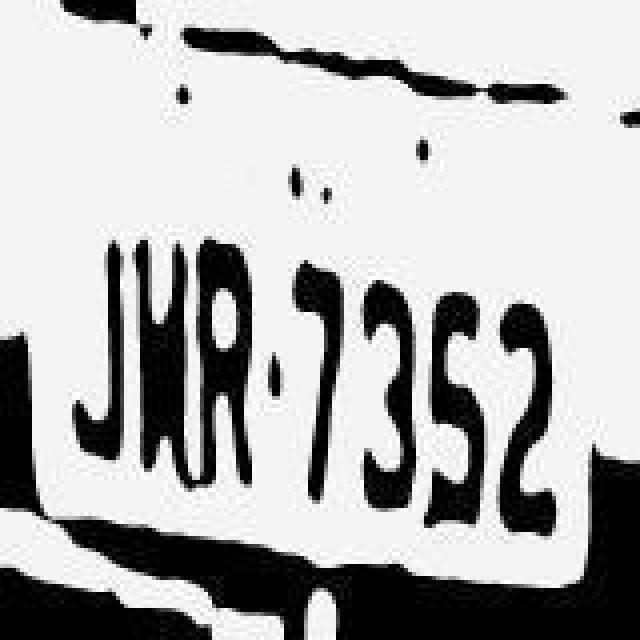2: (488, 298, 560, 542)
3: (350, 270, 418, 522)
5: (424, 292, 488, 540)
7: (280, 248, 344, 520)
J: (54, 222, 122, 466)
R: (192, 228, 264, 492)
W: (130, 208, 190, 480)
